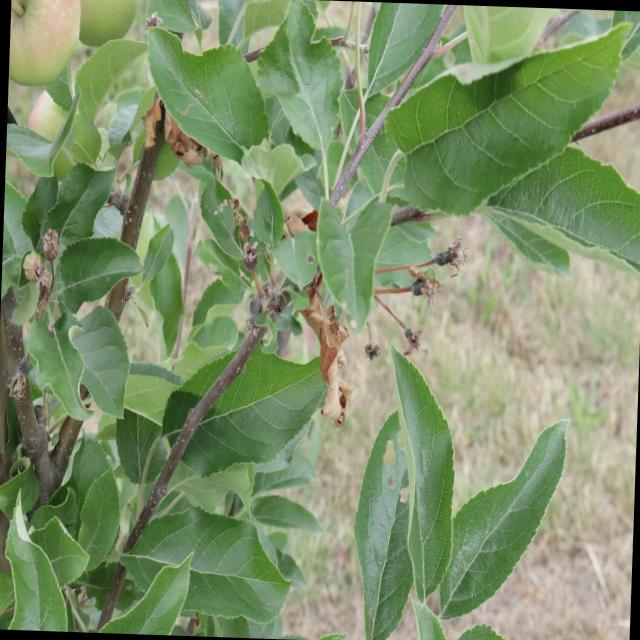-FireBlight-: (286, 270, 358, 430)
